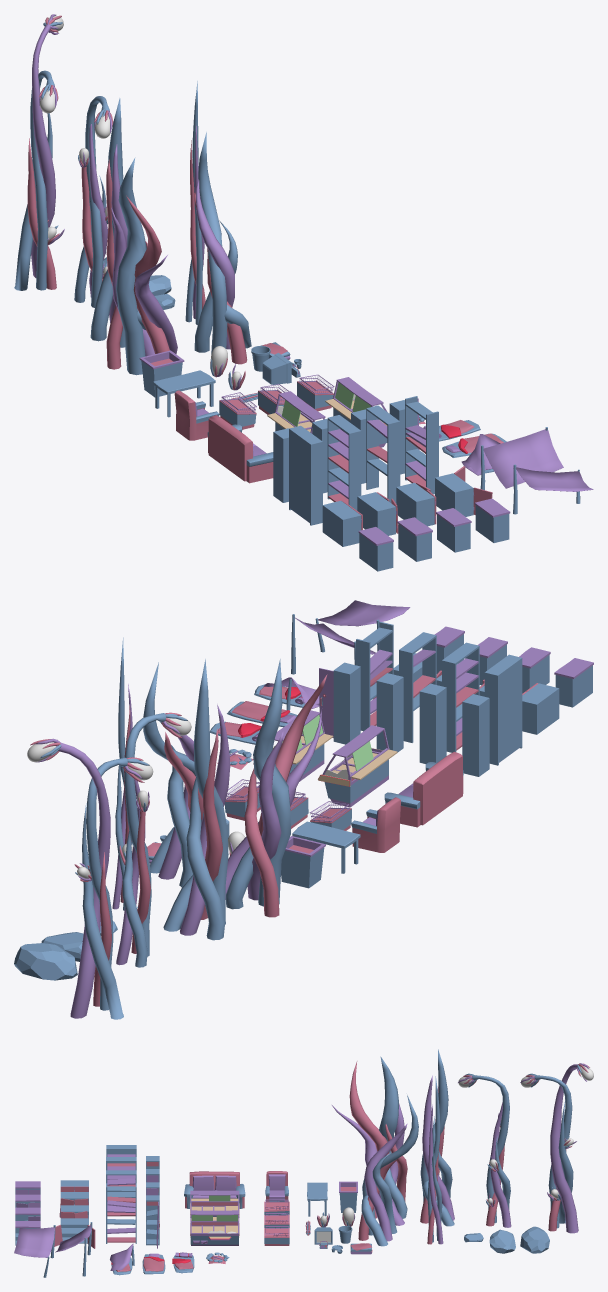
File: SM_PropPack.fbx
3 views of the same model, one above another, from view 1: azimuth 30°, elevation 25°; view 2: azimuth 150°, elevation 25°; view 3: azimuth 270°, elevation 25° (orthographic). The views are drawn at different scales.
Parts seen in each view (by area): view 1: SM_PipeDecor_01, SM_StreetLamp_01, SM_PipeDecor_02, SM_StreetLamp_00, SM_PipeDecor_00, SM_Shelf_00, SM_Shelf_01, SM_HangingCloth_00, SM_Sofa, SM_Shelf_02, SM_Shelf_03, SM_PipeDecor_03 (+18 smaller); view 2: SM_PipeDecor_01, SM_StreetLamp_01, SM_PipeDecor_00, SM_StreetLamp_00, SM_PipeDecor_02, SM_Freezer_01, SM_Shelf_00, SM_Sofa, SM_Locker_02, SM_Shelf_01, SM_Shelf_02, SM_Shelf_03 (+22 smaller); view 3: SM_StreetLamp_01, SM_PipeDecor_01, SM_PipeDecor_02, SM_PipeDecor_00, SM_StreetLamp_00, SM_Freezer_00, SM_PipeDecor_03, SM_Sofa, SM_Shelf_02, SM_HangingCloth_01, SM_Freezer_01, SM_Cupboard_03 (+23 smaller).
Part boxes in pixels (bbox=[...]): SM_PipeDecor_01: bbox=[106, 157, 177, 375]; SM_StreetLamp_01: bbox=[14, 14, 64, 290]; SM_PipeDecor_02: bbox=[194, 132, 251, 364]; SM_StreetLamp_00: bbox=[74, 96, 113, 307]; SM_PipeDecor_00: bbox=[90, 98, 127, 347]; SM_Shelf_00: bbox=[289, 425, 322, 525]; SM_Shelf_01: bbox=[327, 415, 361, 510]; SM_HangingCloth_00: bbox=[480, 427, 563, 490]; SM_Sofa: bbox=[207, 415, 273, 483]; SM_Shelf_02: bbox=[405, 396, 438, 494]; SM_Shelf_03: bbox=[366, 405, 400, 503]; SM_PipeDecor_03: bbox=[185, 81, 205, 324]; SM_PipeDecor_01: bbox=[225, 659, 327, 917]; SM_StreetLamp_01: bbox=[27, 738, 153, 1019]; SM_PipeDecor_00: bbox=[163, 659, 230, 940]; SM_StreetLamp_00: bbox=[116, 712, 191, 967]; SM_PipeDecor_02: bbox=[143, 662, 203, 887]; SM_Freezer_01: bbox=[318, 725, 397, 807]; SM_Shelf_00: bbox=[484, 654, 522, 765]; SM_Sofa: bbox=[384, 751, 463, 827]; SM_Locker_02: bbox=[319, 662, 360, 744]; SM_Shelf_01: bbox=[442, 642, 479, 752]; SM_Shelf_02: bbox=[356, 621, 393, 731]; SM_Shelf_03: bbox=[399, 632, 436, 742]; SM_StreetLamp_01: bbox=[520, 1063, 593, 1233]; SM_PipeDecor_01: bbox=[332, 1056, 407, 1225]; SM_PipeDecor_02: bbox=[358, 1095, 418, 1246]; SM_PipeDecor_00: bbox=[420, 1049, 454, 1226]; SM_StreetLamp_00: bbox=[458, 1073, 511, 1227]; SM_Freezer_00: bbox=[190, 1210, 239, 1245]; SM_PipeDecor_03: bbox=[427, 1076, 443, 1244]; SM_Sofa: bbox=[184, 1171, 245, 1208]; SM_Shelf_02: bbox=[106, 1183, 136, 1243]; SM_HangingCloth_01: bbox=[14, 1225, 55, 1277]; SM_Freezer_01: bbox=[190, 1190, 239, 1218]; SM_Cupboard_03: bbox=[54, 1218, 95, 1248].
Bounding box in the file's own units: 1217 × 1256 × 3727.
